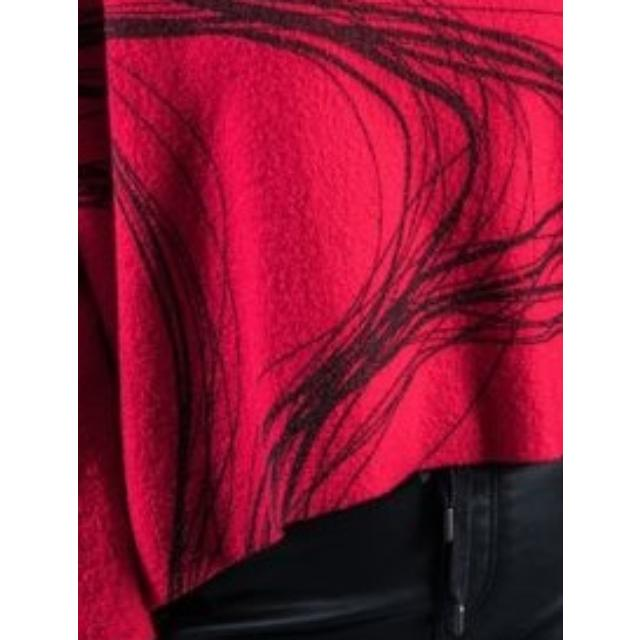wool: (78, 1, 562, 486)
